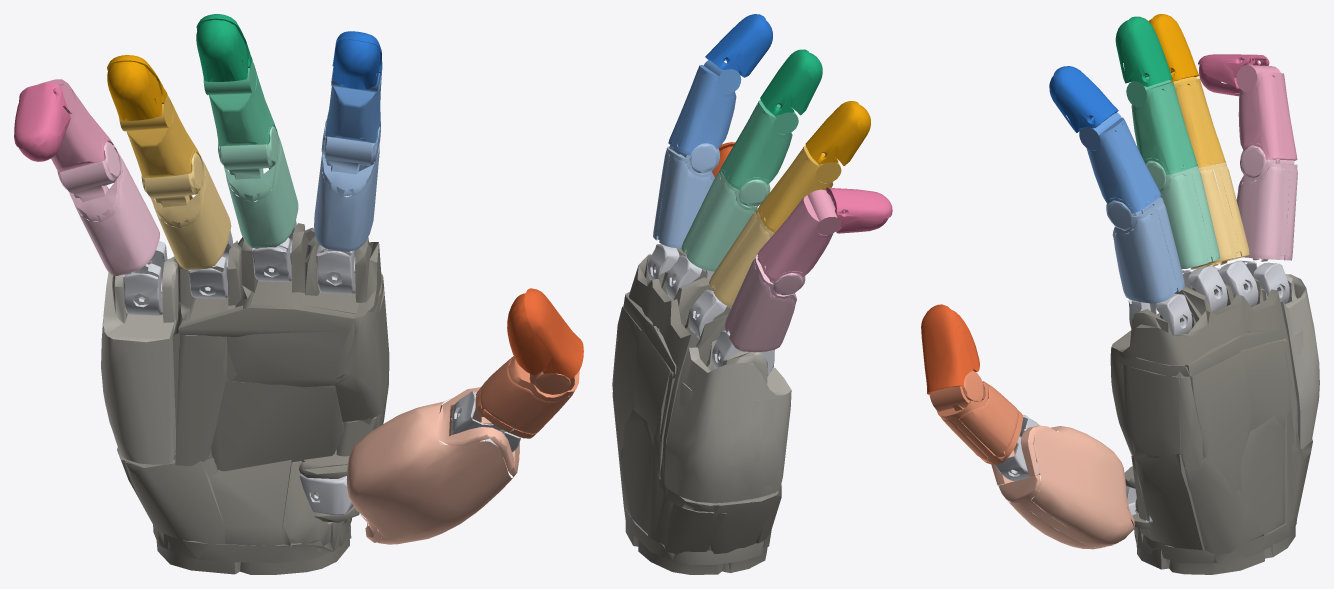
Rendered from sharpa.glb.
3 views of the same model, side by side, from view 1: azimuth 30°, elevation 25°; view 2: azimuth 150°, elevation 25°; view 3: azimuth 270°, elevation 25° (orthographic). The views are drawn at different scales.
Visible parts, largest first — view 1: hand; view 2: hand; view 3: hand.
Boxes of the visible parts, x1,y1,x2,y2 form: hand: (14, 14, 583, 574); hand: (612, 14, 892, 574); hand: (921, 14, 1319, 574).
Size of the model in its own units: 0.1499 by 0.2031 by 0.1482.
